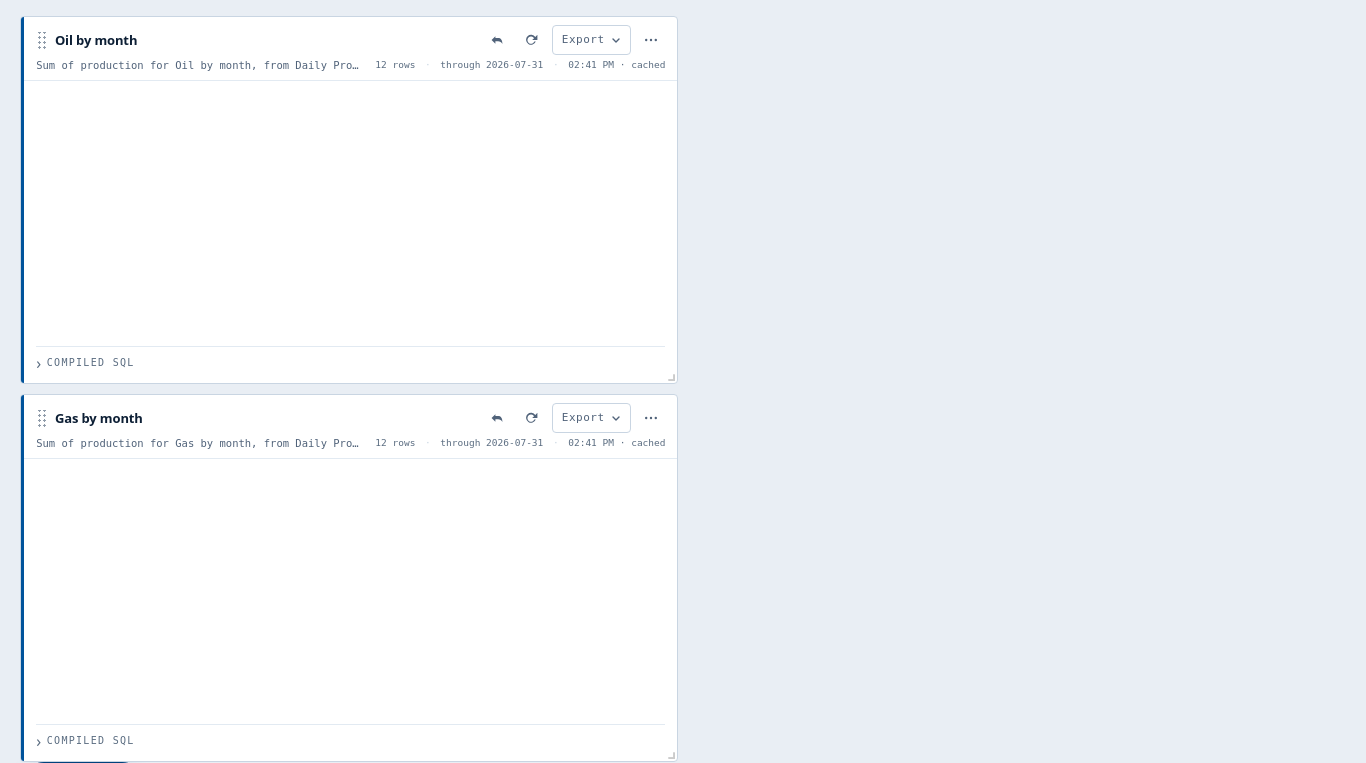
it: Board visual-first interactions › avoids smooth scrolling when reduced motion is requested
The width and height of the screenshot is (1366, 763).
Click the 1st button named "Card actions".
click(652, 40)  # box [638,26,666,54]
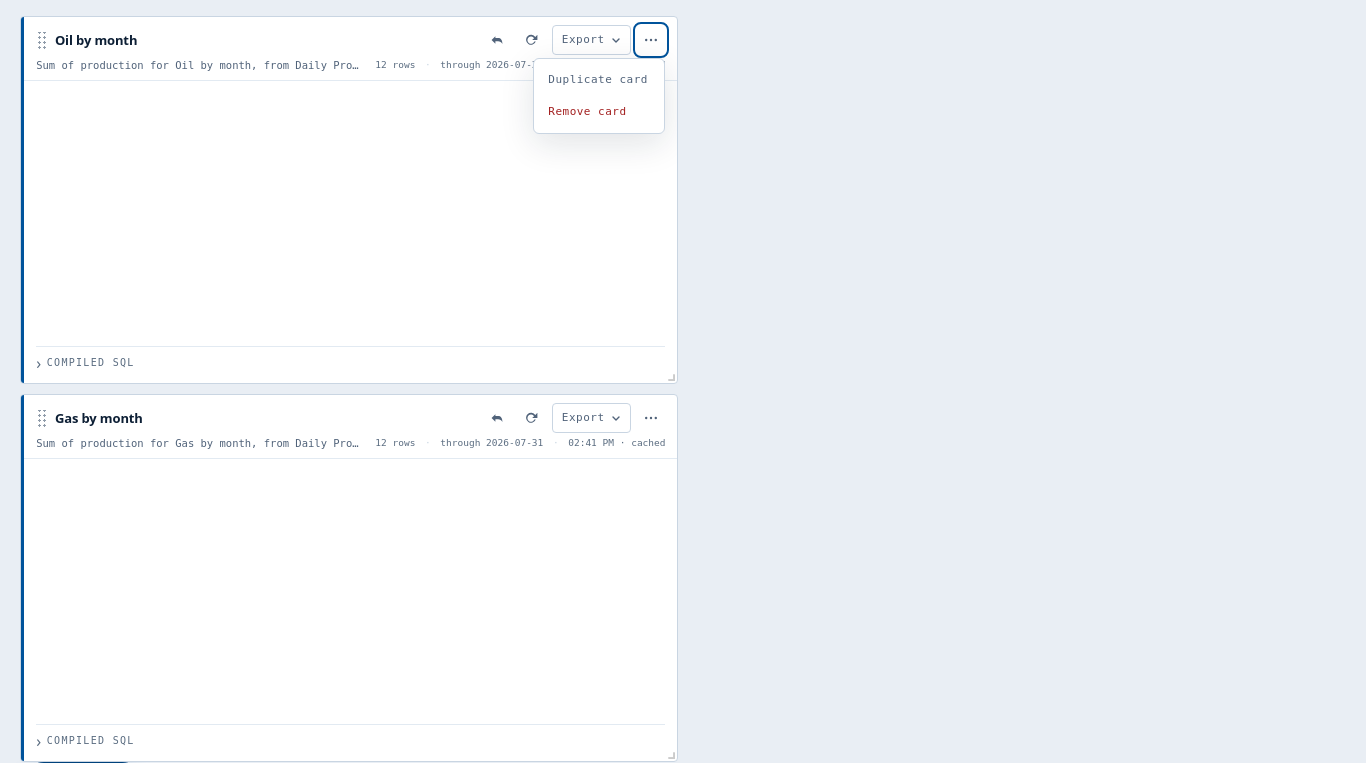
Click the menu item "Duplicate card".
click(600, 80)  # box [538,63,660,96]
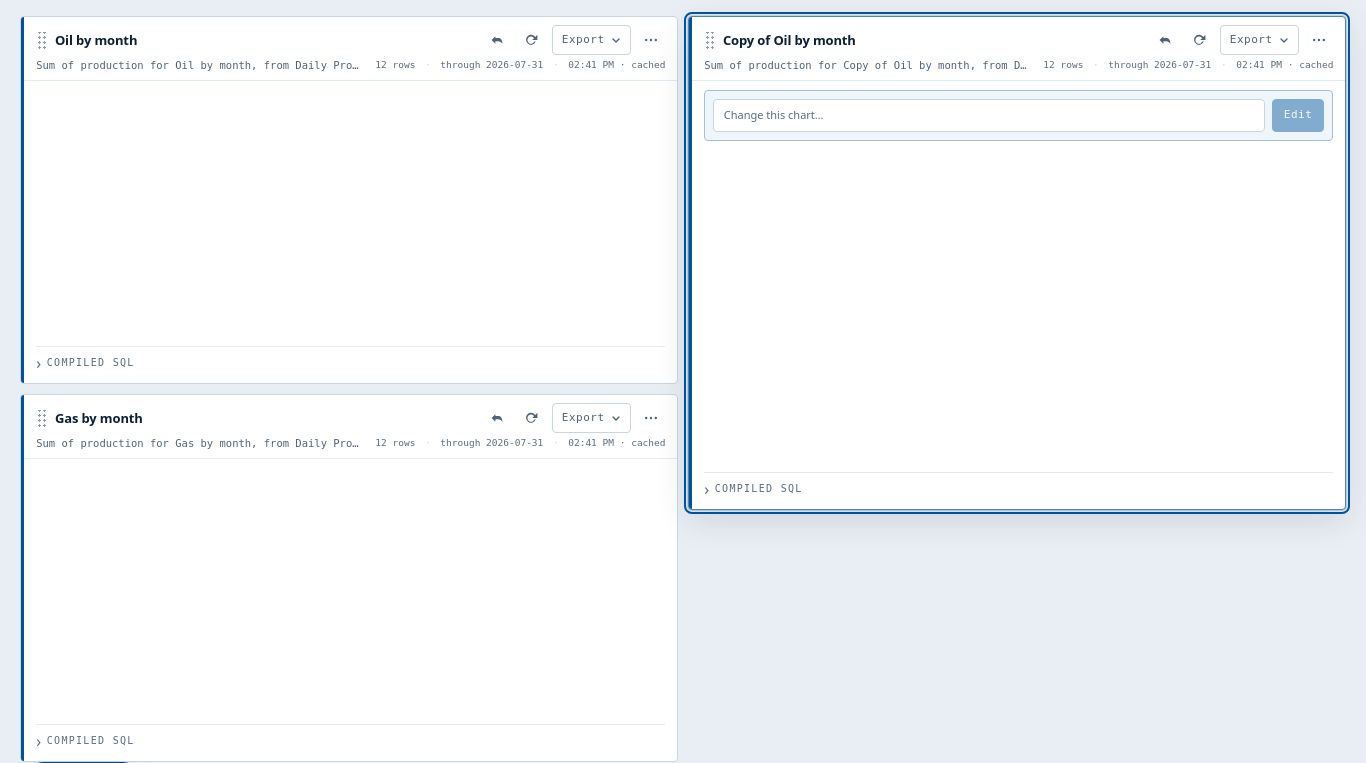
Check: the element named "Copy of Oil by month card" is shown, box [688,16,1346,510]
